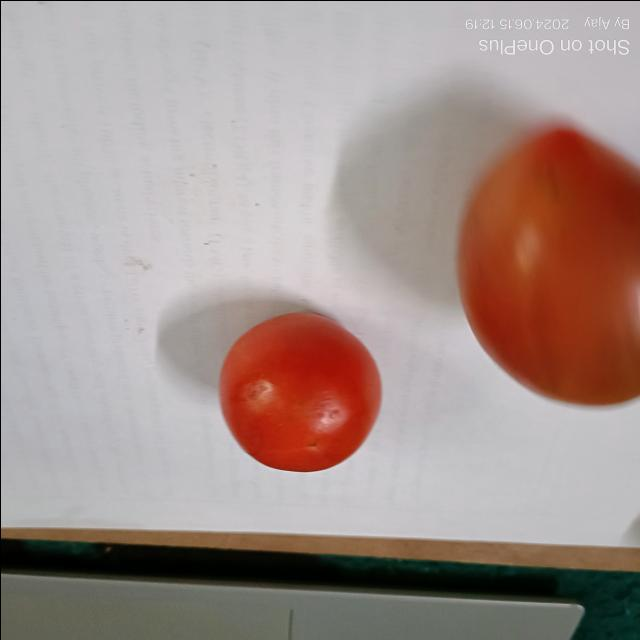Anthrocnose: (241, 380, 271, 406), (317, 404, 343, 426), (306, 437, 316, 447)
